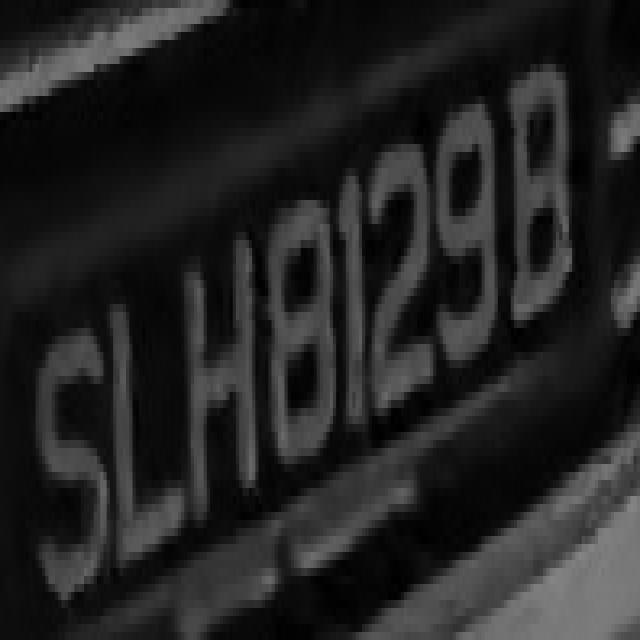1: (336, 152, 369, 464)
2: (362, 136, 440, 448)
8: (265, 192, 343, 488)
9: (424, 80, 504, 384)
B: (504, 48, 582, 336)
H: (181, 224, 259, 544)
L: (97, 296, 187, 560)
S: (32, 304, 113, 616)
